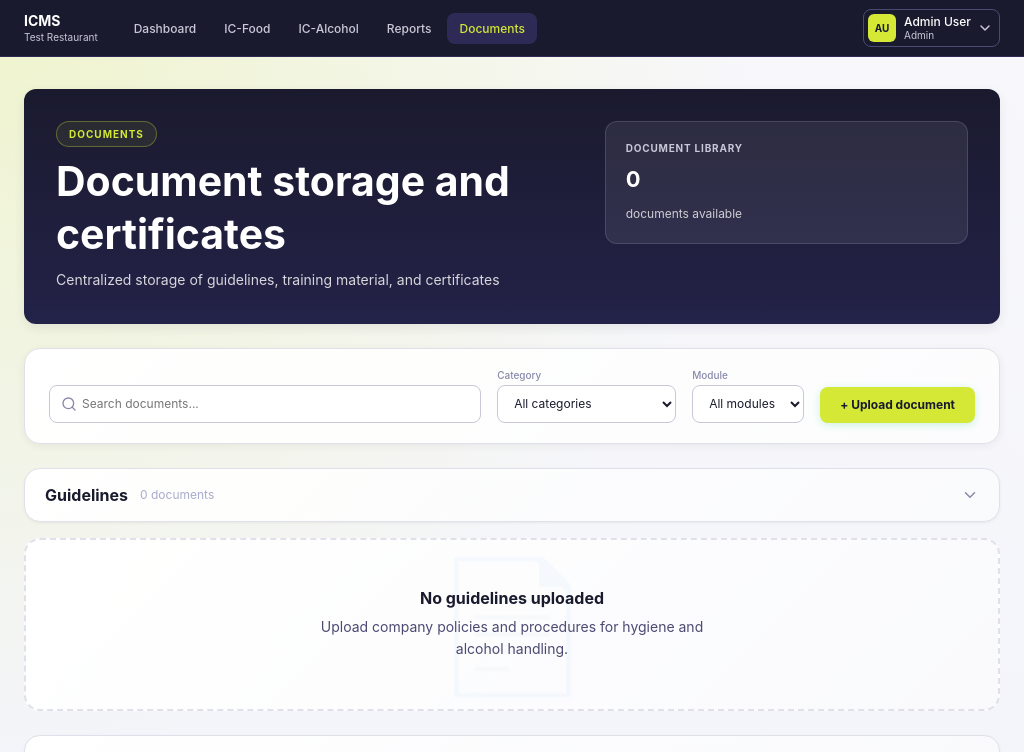
Scenario: Documents Page › as admin › closes upload modal when cancel is clicked
Click the button "+ Upload document" at [898, 405], box [820,387,975,423]
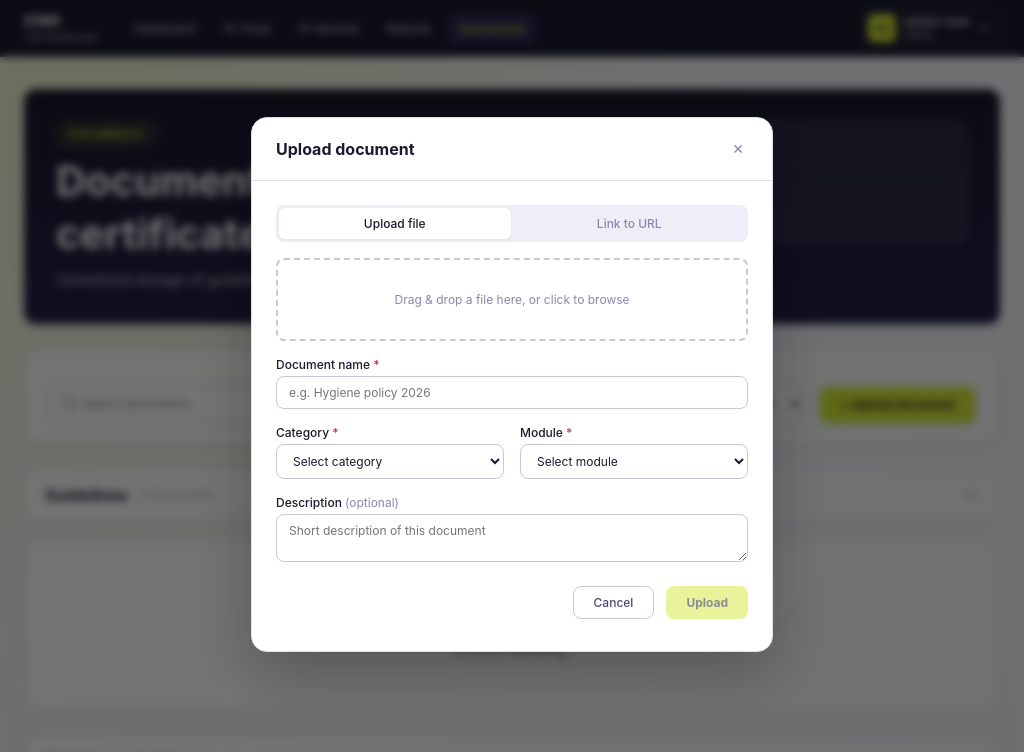
Now the dialog is shown, box [251,117,773,652]
Click the button "Cancel" at [614, 603], box [573,586,655,619]
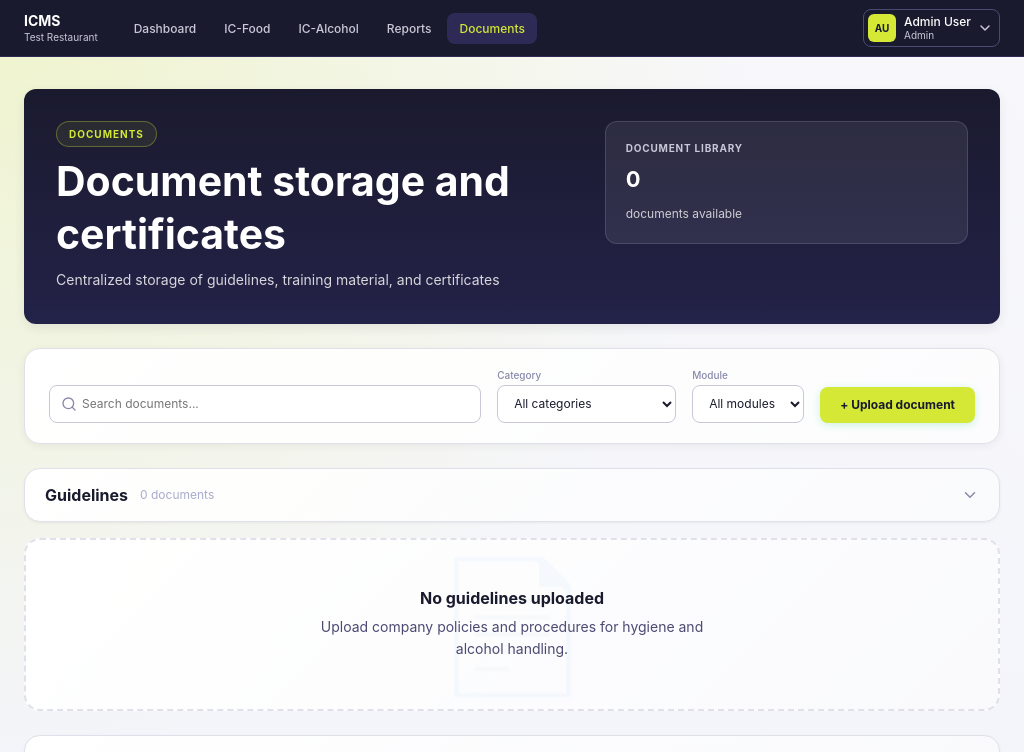
Now the dialog is gone
